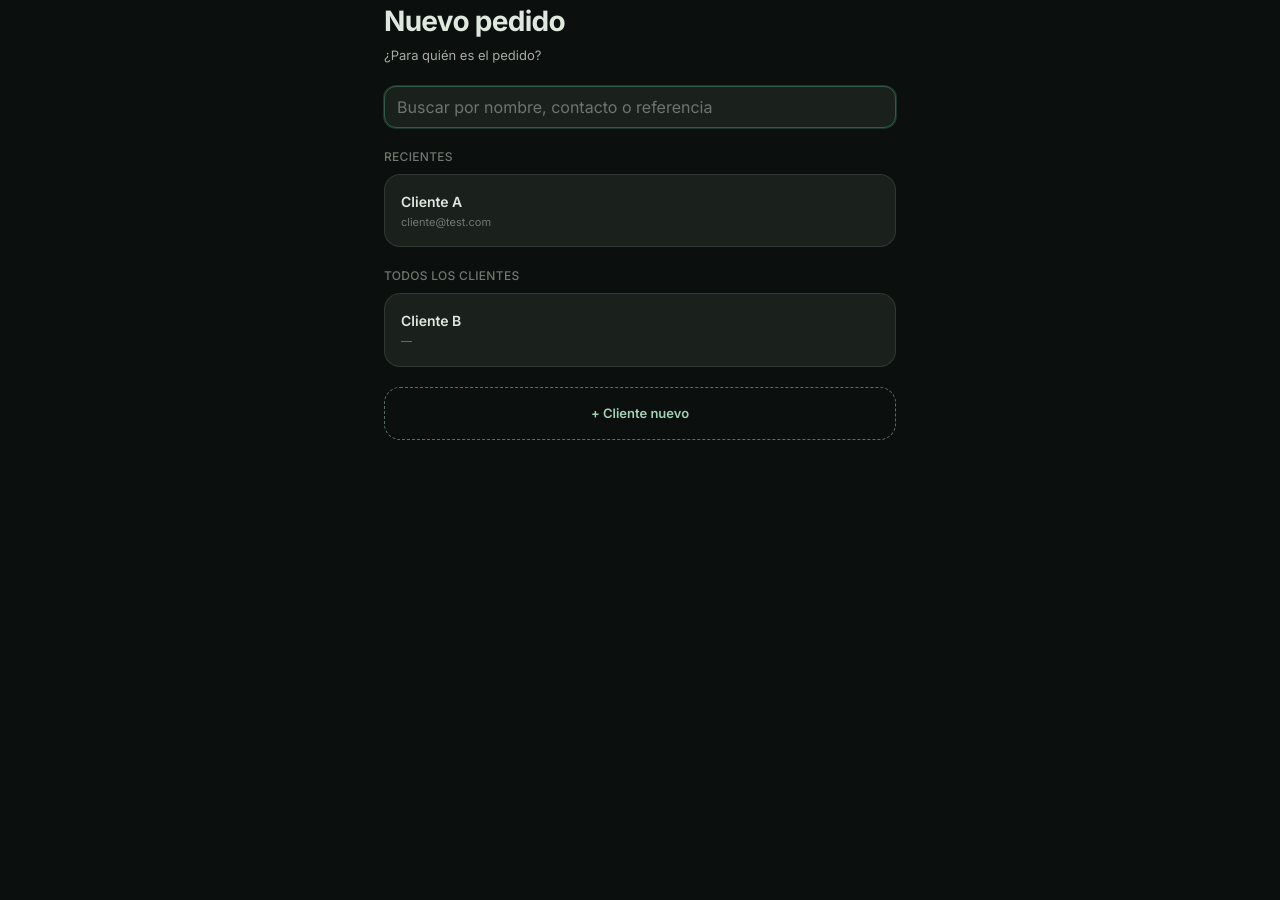
Test: NuevoPedidoPage › busca productos con debounce y agrega al tocar sin perder la búsqueda
Click the button "Cliente A cliente@test.com" at (432, 201), box [384,174,896,247]
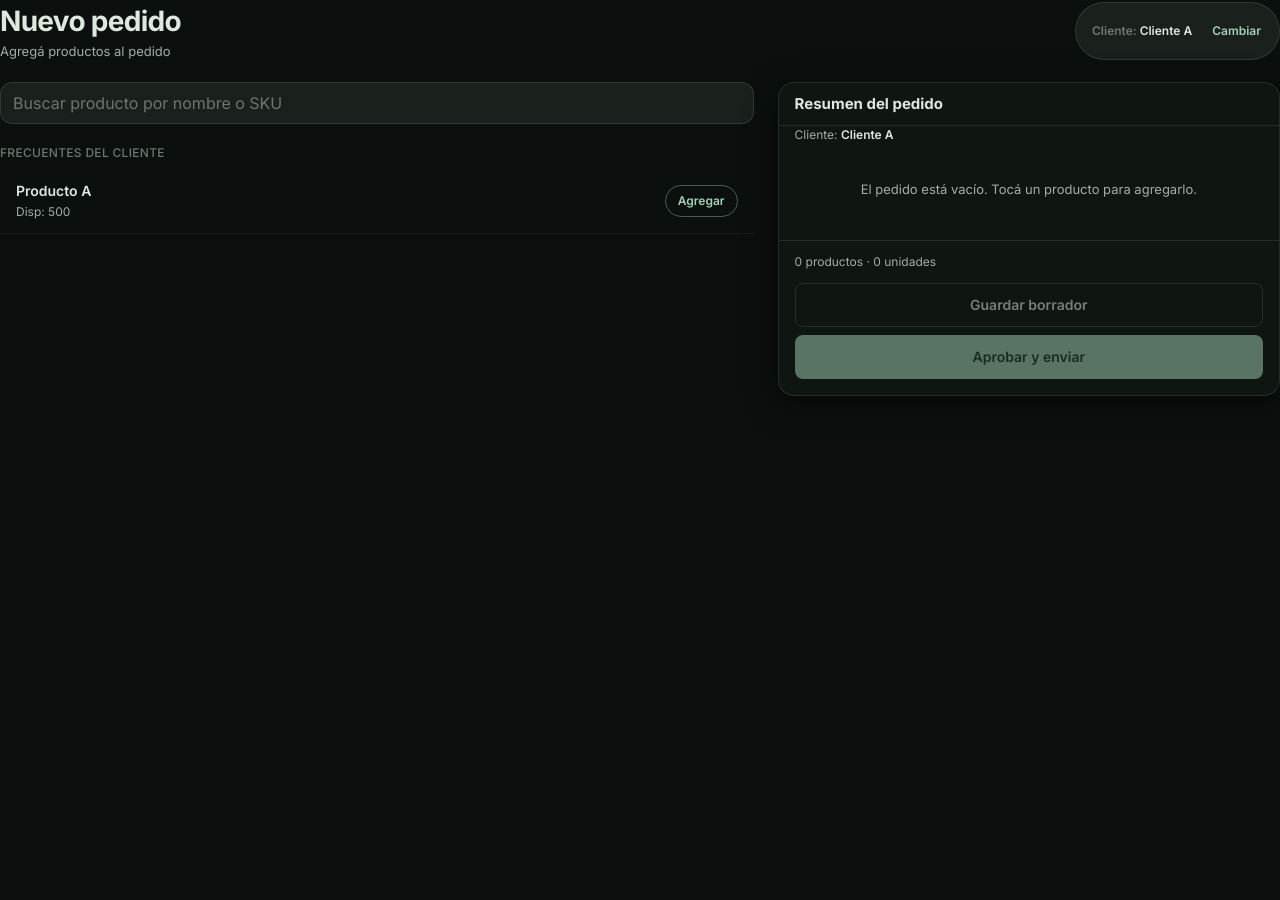
Expected: the button "Cambiar" is shown, [1200,9,1273,53]
Type "prod" into the search field labelled "Buscar producto" at (377, 102), box [0,82,754,124]
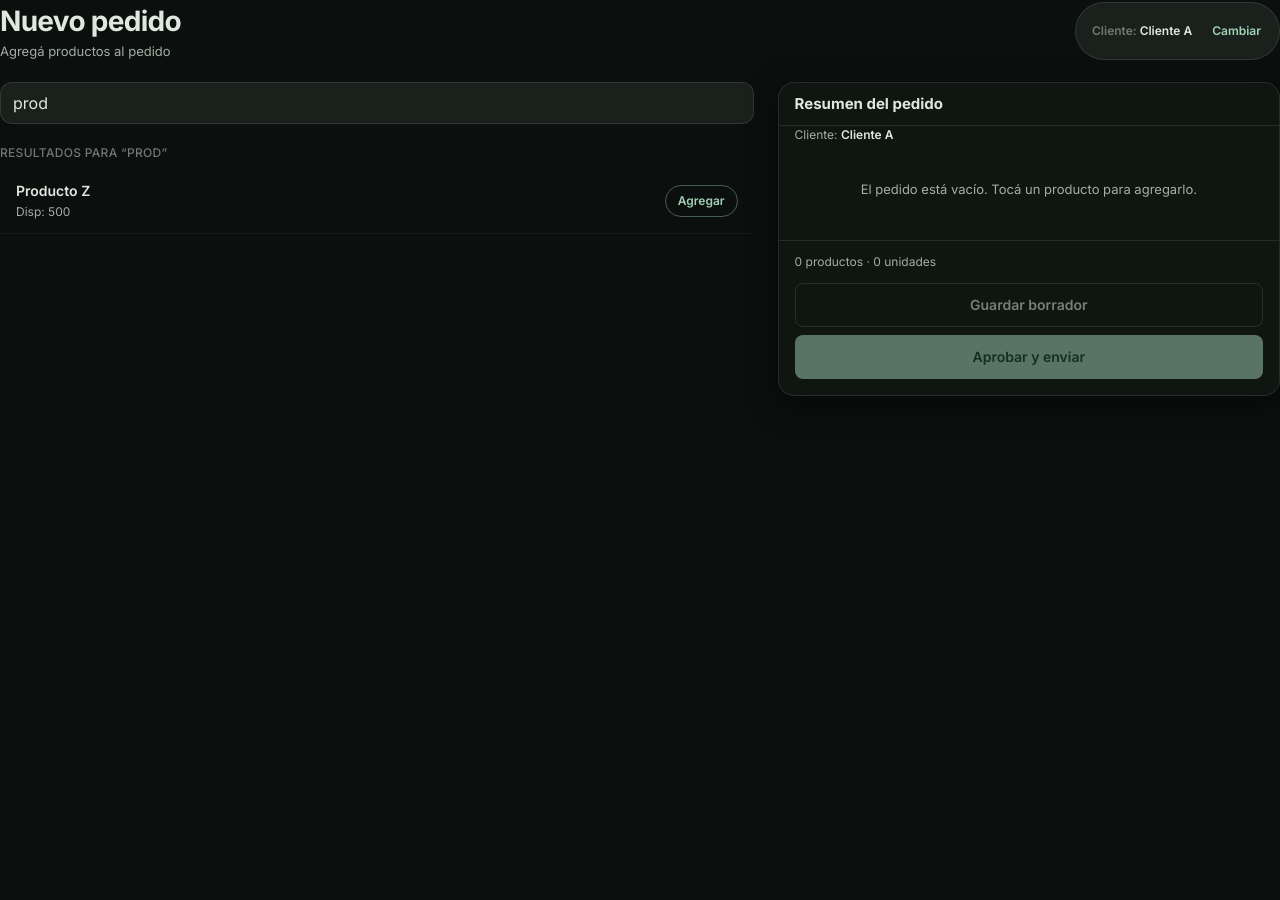
Click the button with aria-label "Producto Z" at (701, 201), box [665,185,738,217]
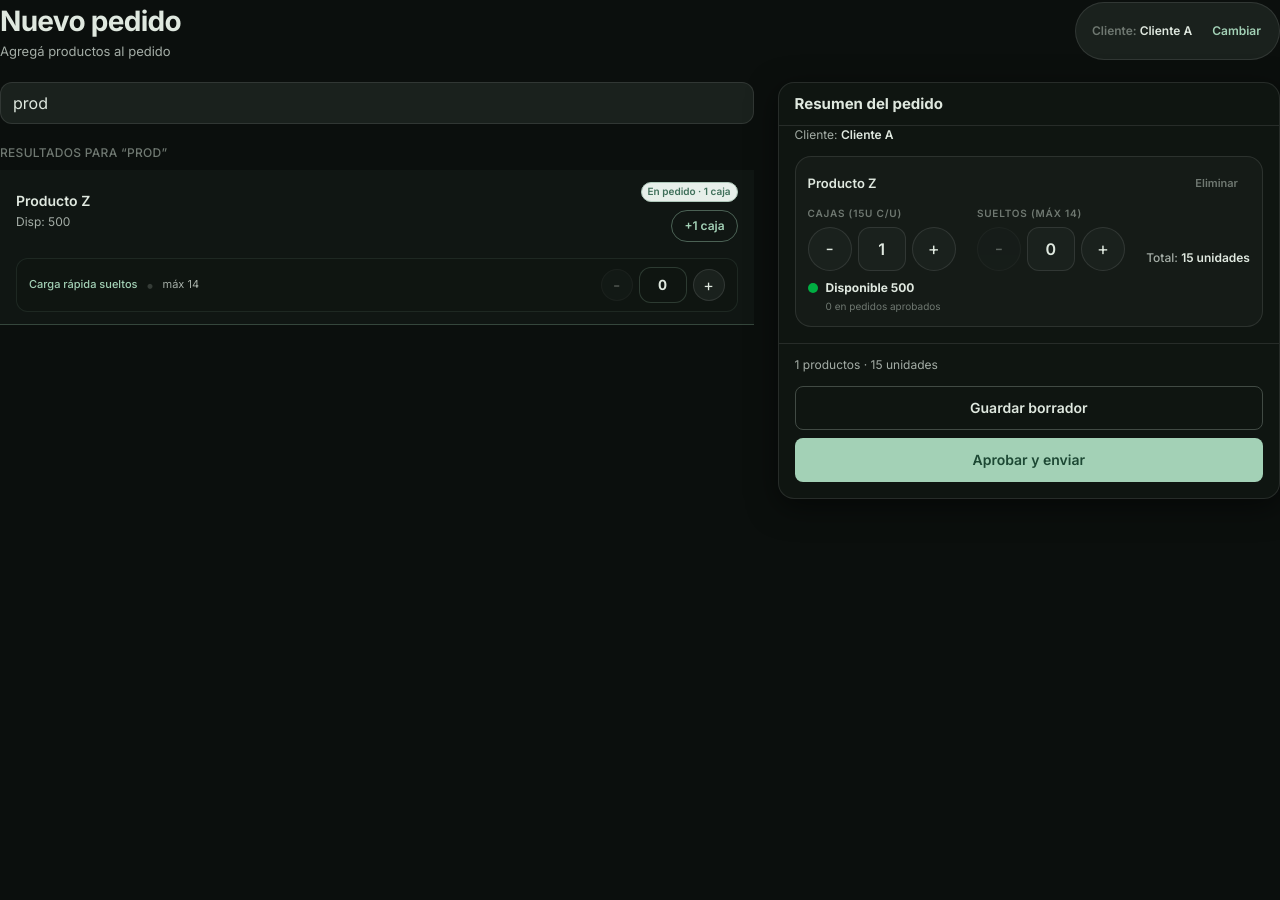
Expected: the text "En pedido · 1 caja" is shown, [640,182,738,202]
